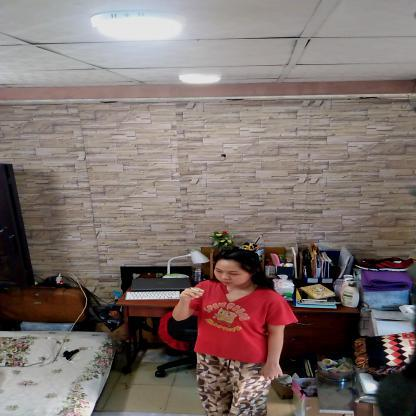cigarette: (188, 288, 200, 292)
person: (179, 249, 288, 415)
